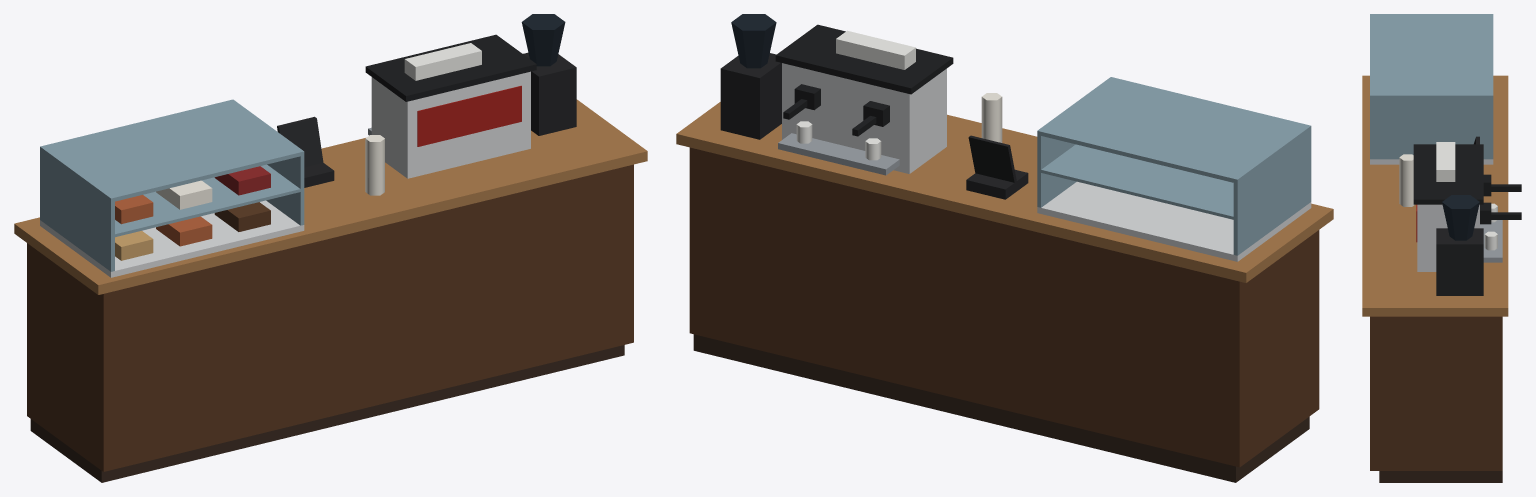
File: coffee_counter.glb
3 renders of one model, left to right at view 1: azimuth 30°, elevation 25°; view 2: azimuth 150°, elevation 25°; view 3: azimuth 270°, elevation 25°, orthographic. The views are drawn at different scales.
Visible parts, largest first — view 1: coffee_counter; view 2: coffee_counter; view 3: coffee_counter.
Part boxes in pixels (left/top/right/bottom): coffee_counter: left=14, top=14, right=647, bottom=482; coffee_counter: left=676, top=14, right=1333, bottom=482; coffee_counter: left=1362, top=14, right=1521, bottom=482.
Size of the model in its own units: 2.9 by 1.55 by 0.84.
1 material, 1 textured.
